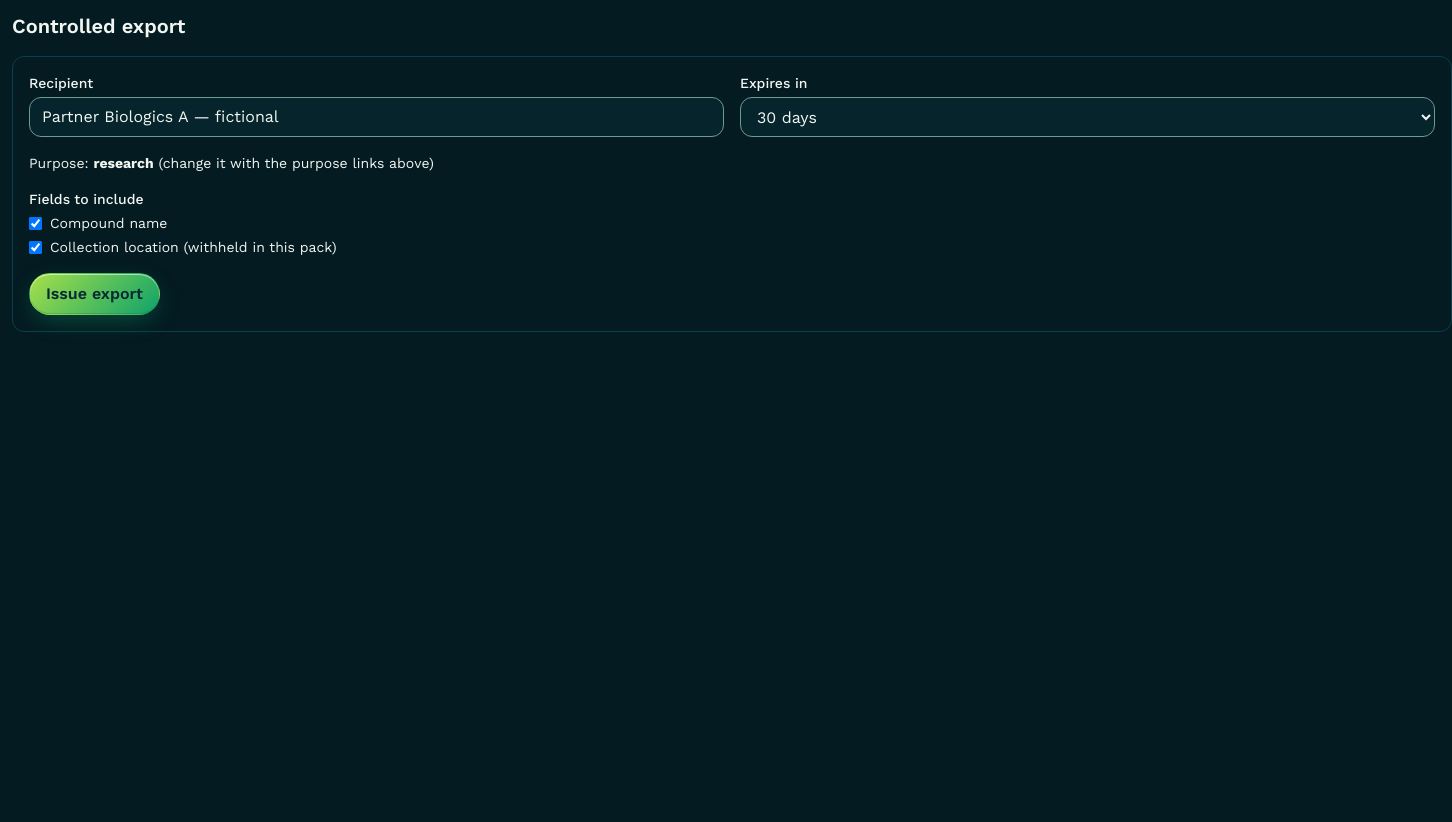
ExportForm › sends only the ticked fields and requires at least one
This screenshot has width=1452, height=822.
Step 1. Click the checkbox labelled "Collection location (withheld in this pack)" → {"x": 36, "y": 247}, box [29, 240, 42, 254]
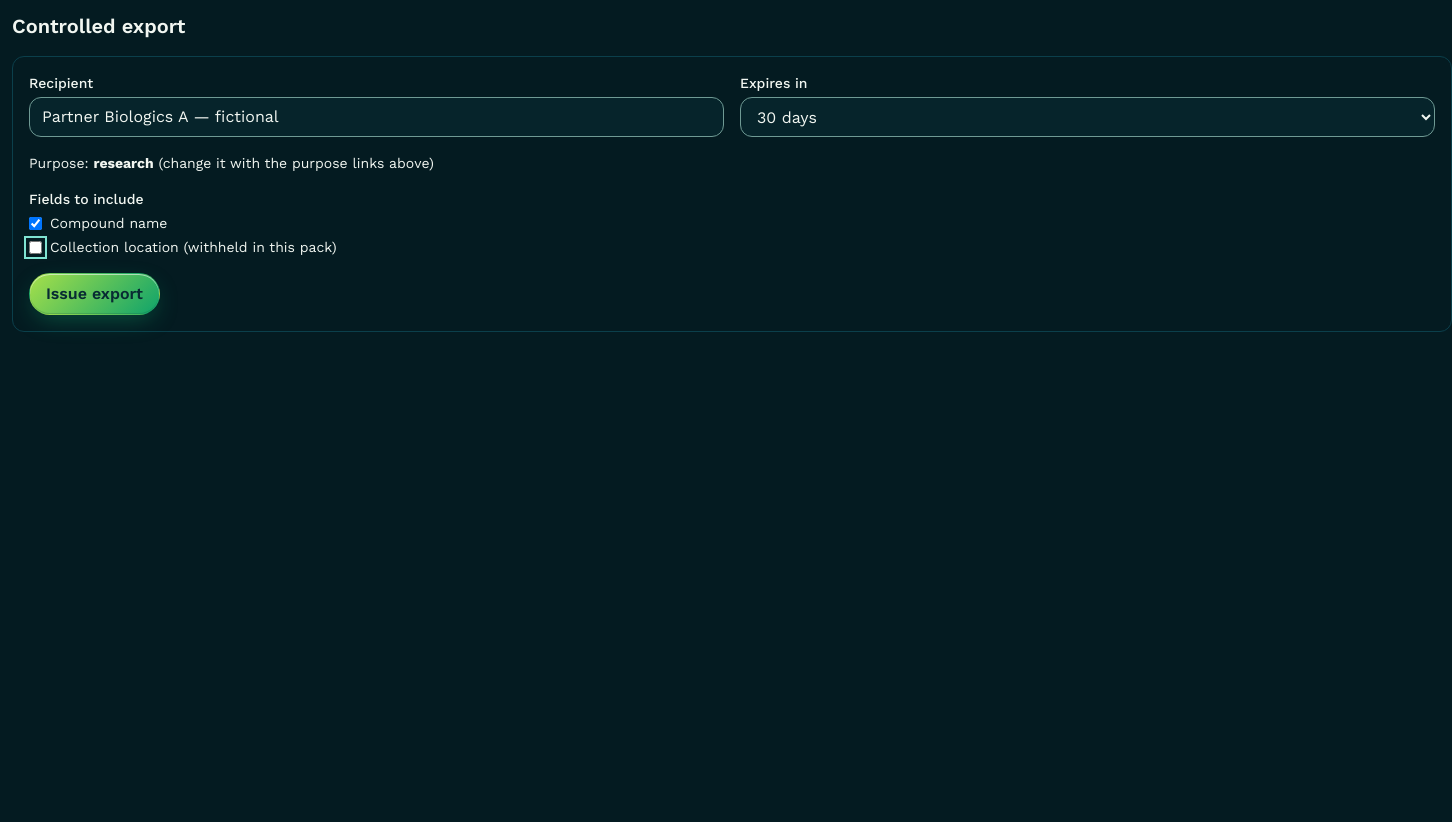
Step 2. Click the button "Issue export" → {"x": 94, "y": 294}, box [29, 273, 160, 315]
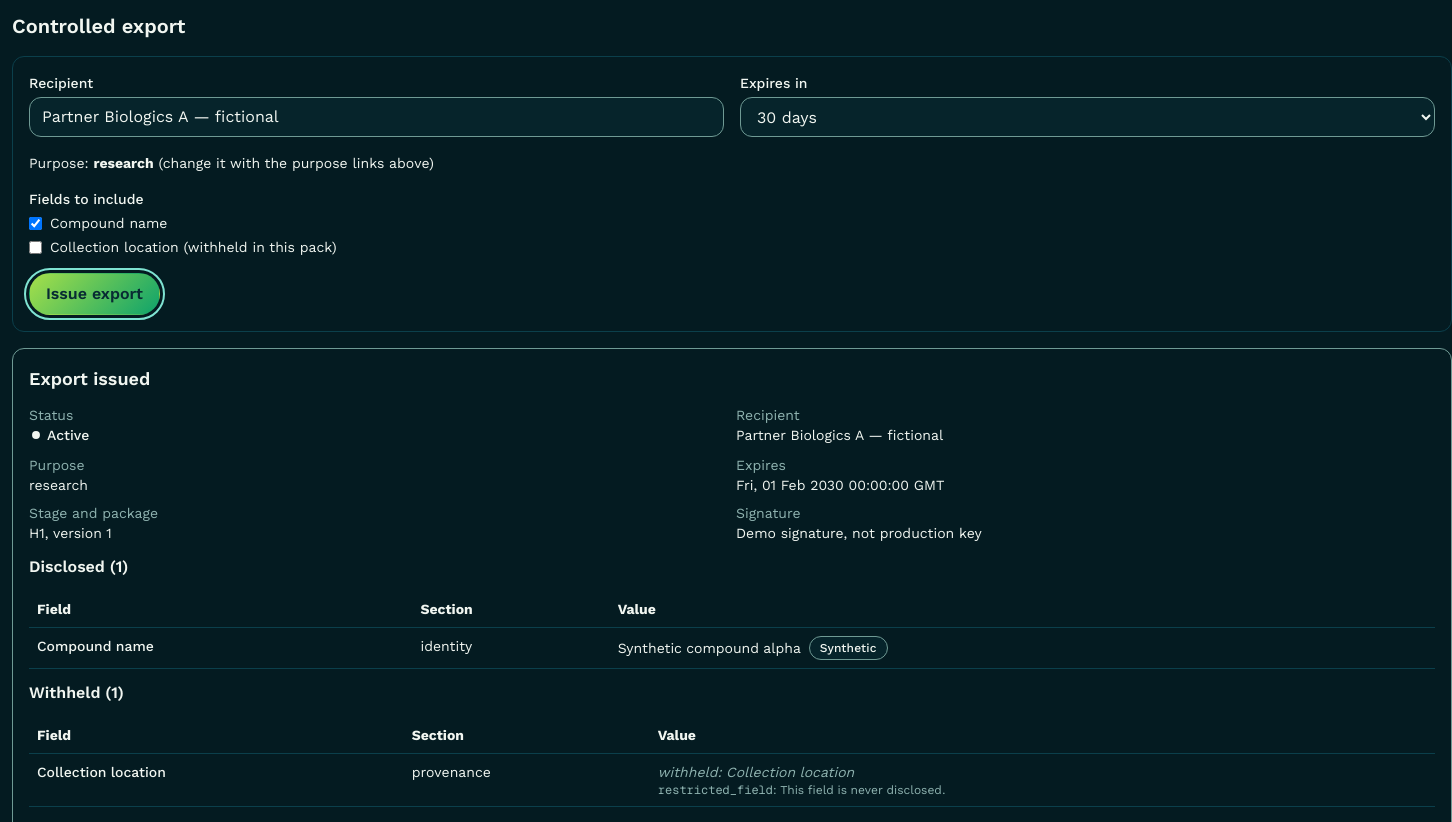
Step 3. Click the checkbox labelled "Compound name" → {"x": 36, "y": 223}, box [29, 216, 42, 230]
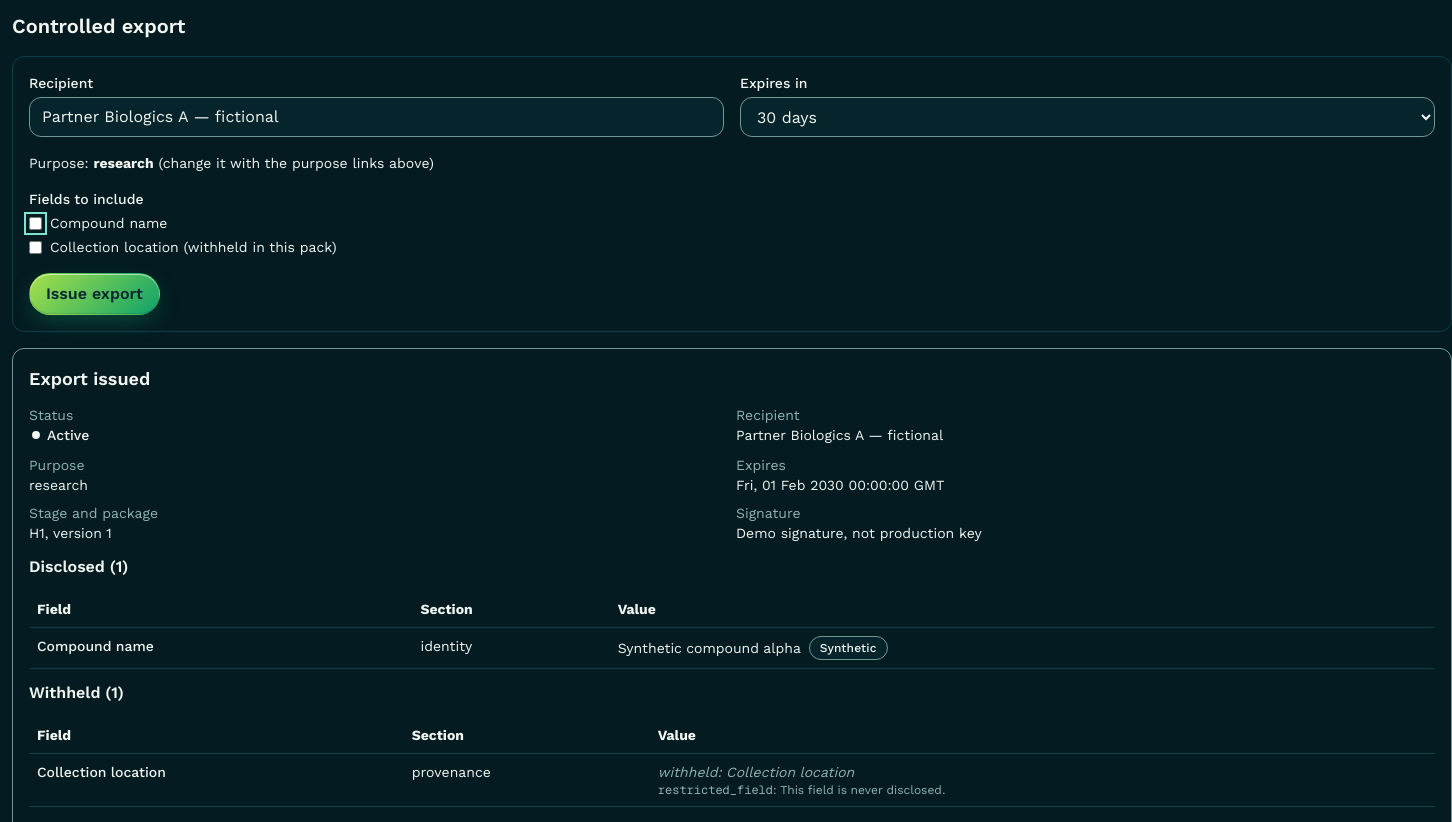
Step 4. Click the button "Issue export" → {"x": 94, "y": 294}, box [29, 273, 160, 315]
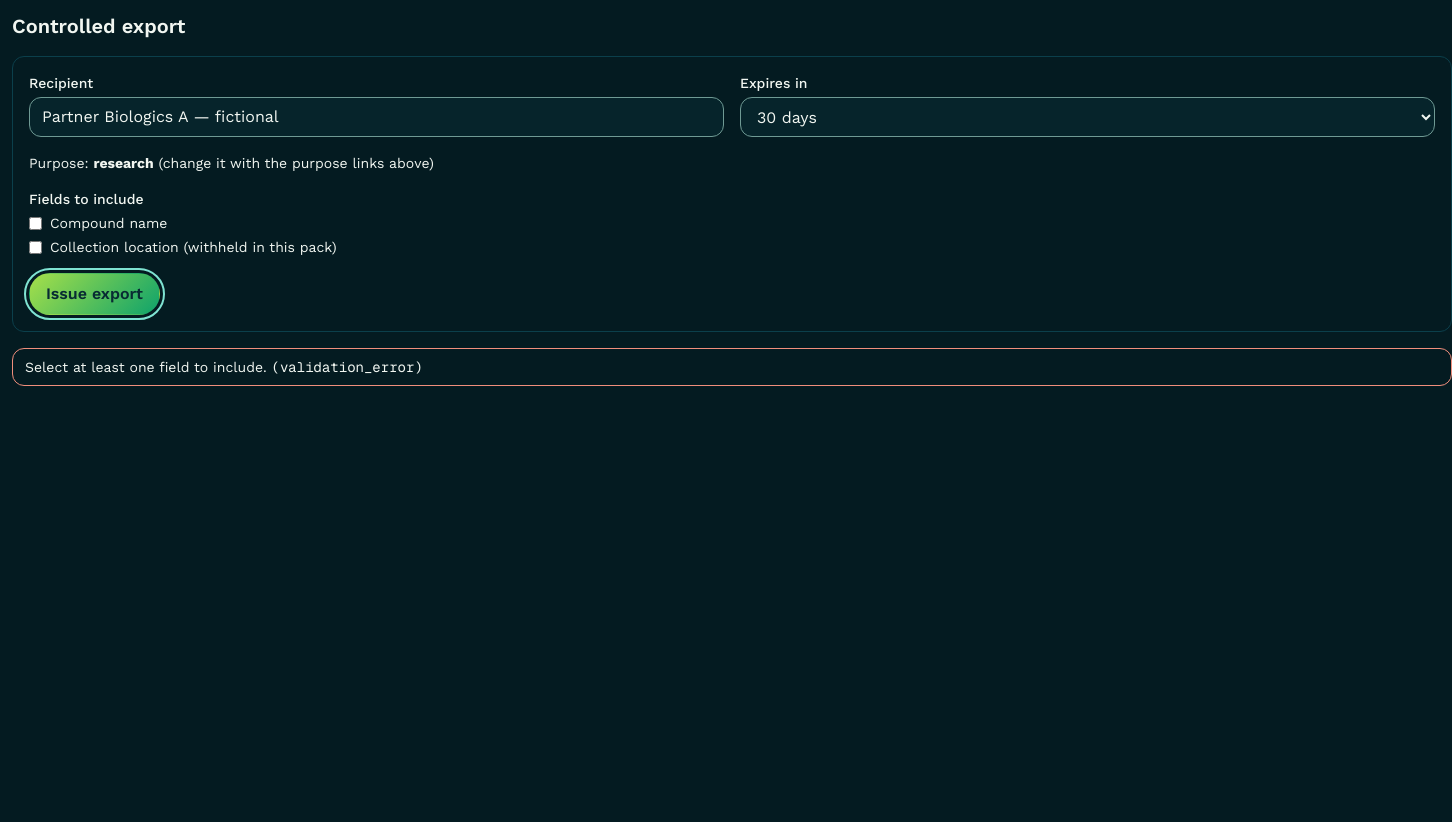
Check: the message shows "at least one field", box [25, 359, 267, 375]
